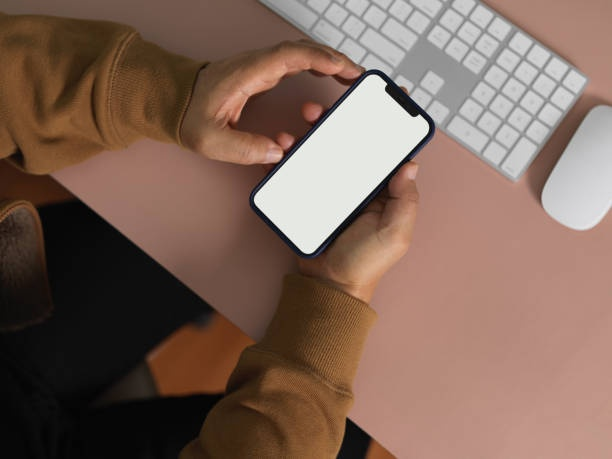keyboard: (258, 1, 589, 182)
phone: (249, 69, 436, 261)
